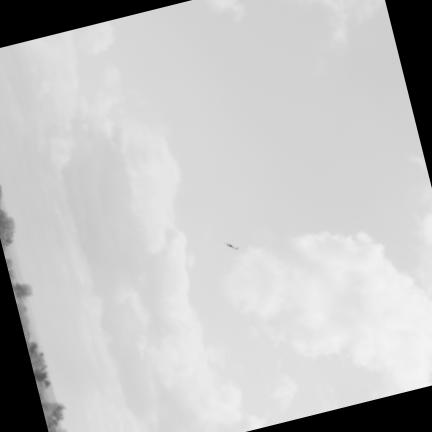Shahed: (224, 243, 237, 248)
